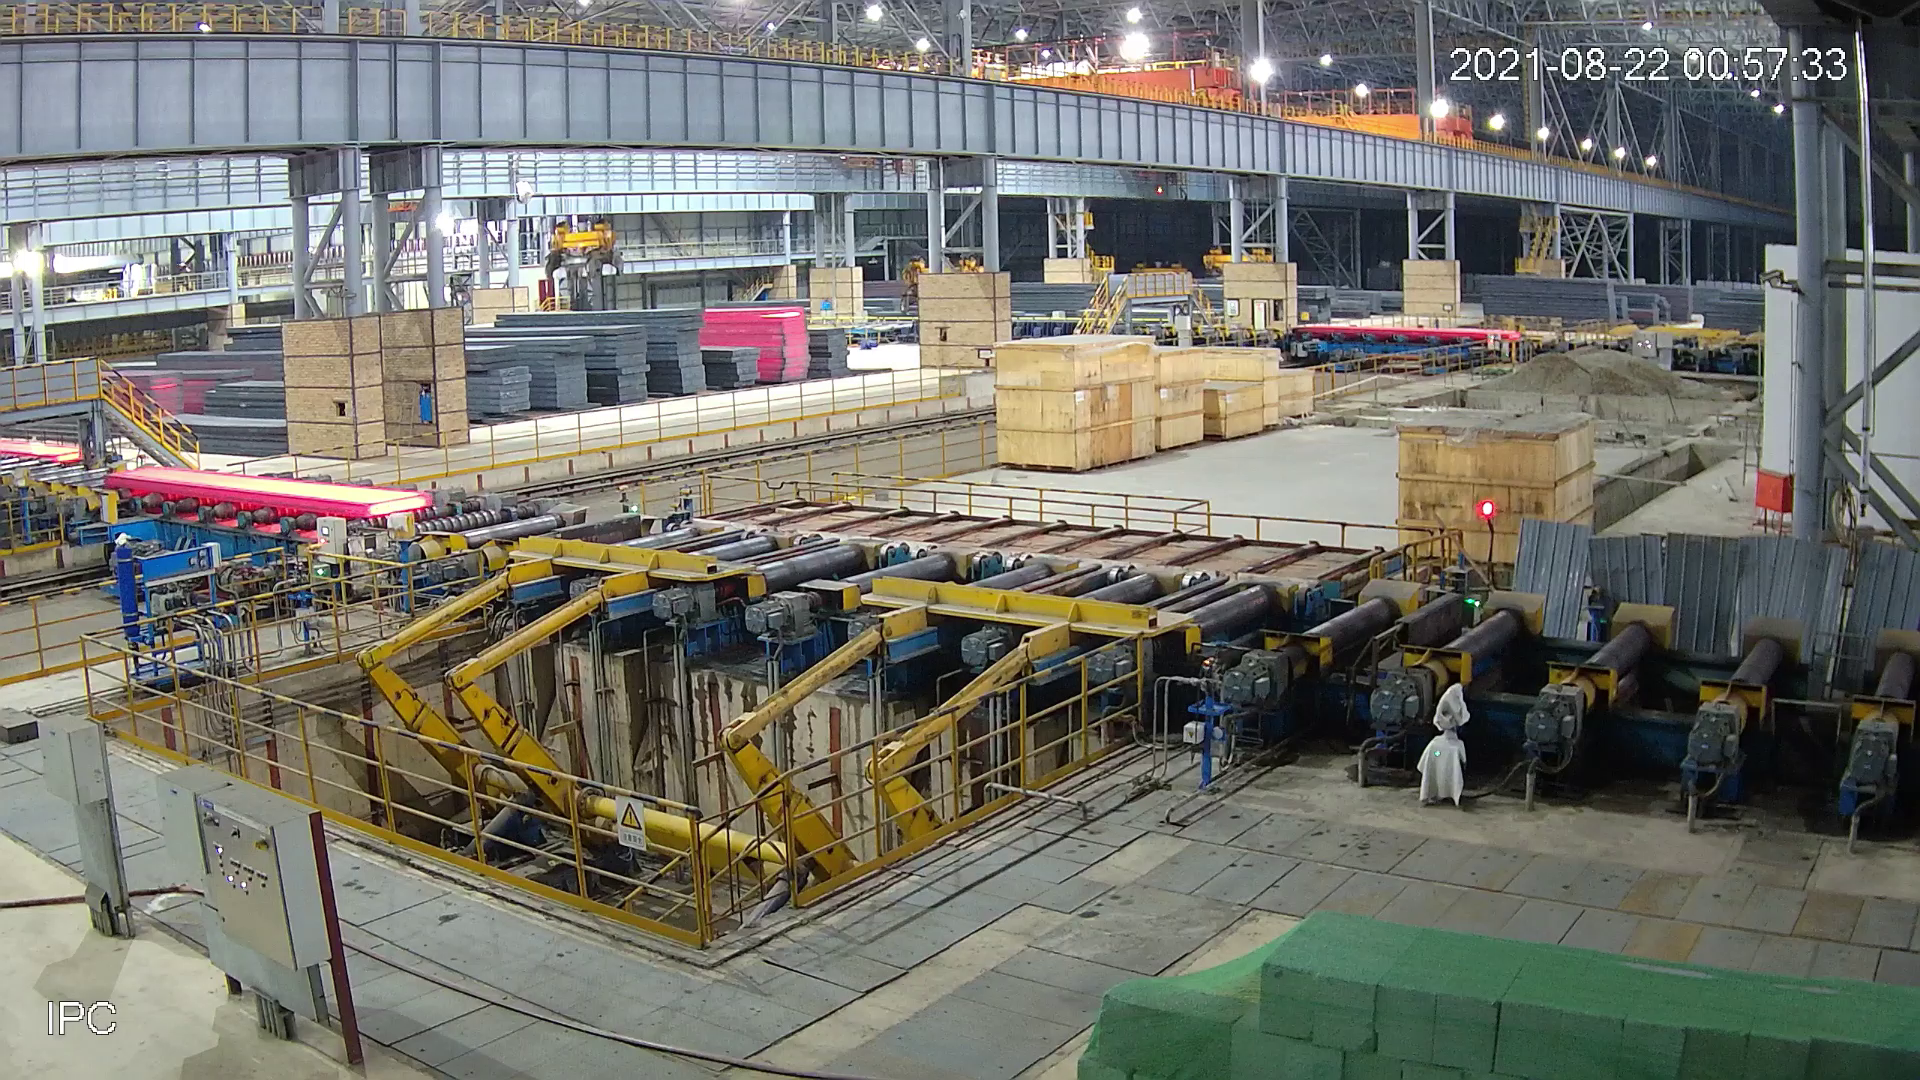slab: (98, 459, 434, 527)
